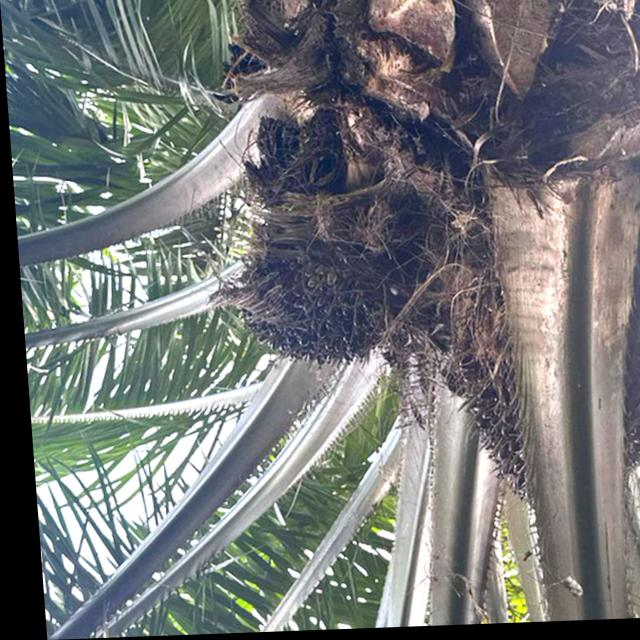unripe: (211, 232, 416, 383)
